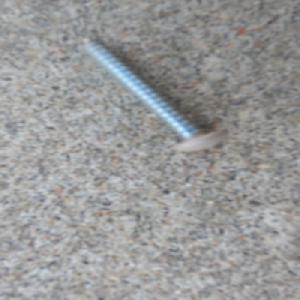Screw: (77, 35, 227, 152)
